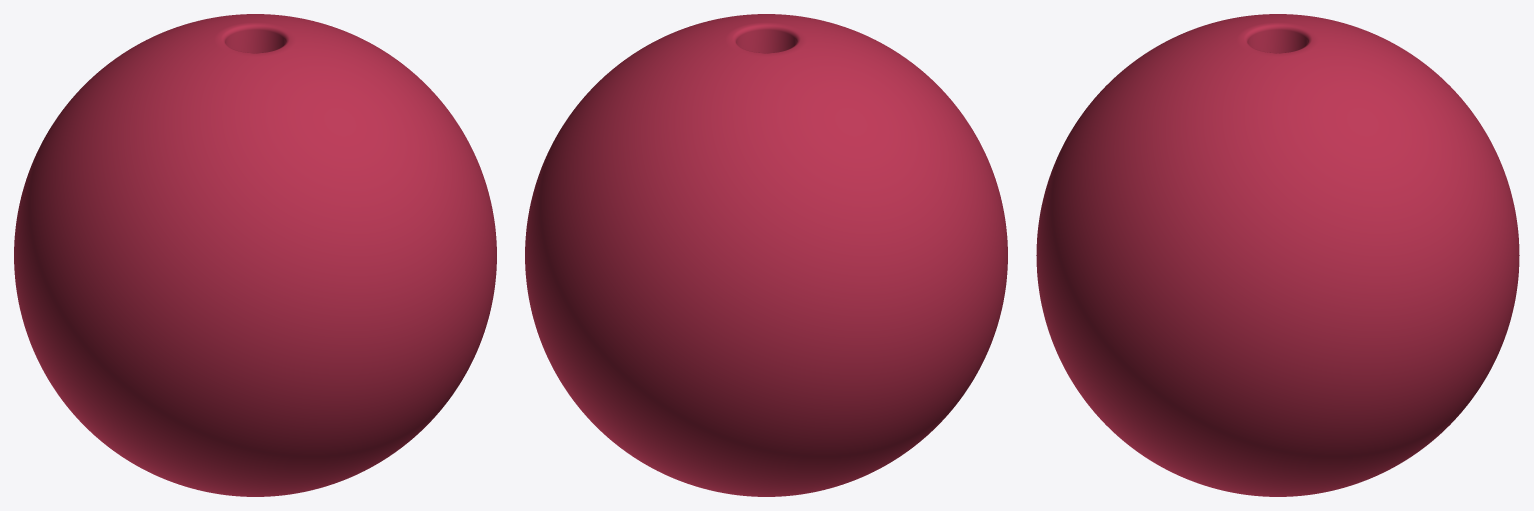
The model's file is garnet-clear-8mm.glb.
The picture shows the model from 3 angles, left to right: view 1: azimuth 30°, elevation 25°; view 2: azimuth 150°, elevation 25°; view 3: azimuth 270°, elevation 25°; orthographic projection.
Visible parts, largest first — view 1: 高透石榴石; view 2: 高透石榴石; view 3: 高透石榴石.
Boxes of the visible parts, left/top/right/bottom form: 高透石榴石: left=14, top=14, right=496, bottom=496; 高透石榴石: left=525, top=14, right=1007, bottom=496; 高透石榴石: left=1036, top=14, right=1519, bottom=496.
Bounding box in the file's own units: 0.008 × 0.00792 × 0.008.
